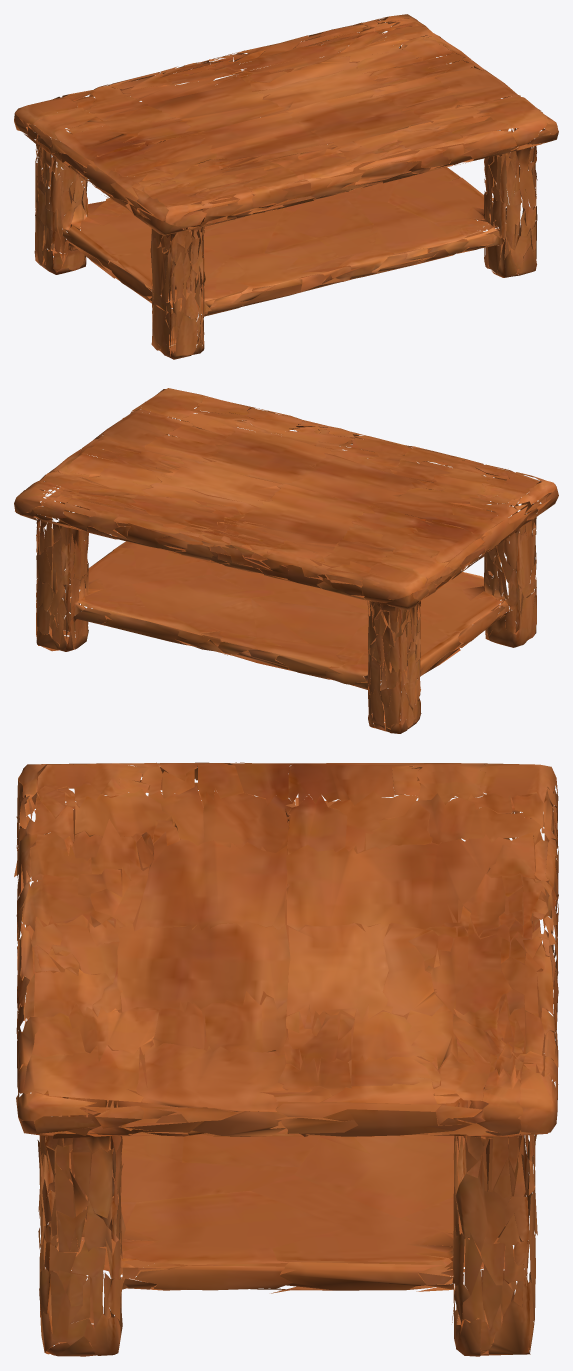
The model's file is coffee_table.glb.
3 views of the same model, one above another, from view 1: azimuth 30°, elevation 25°; view 2: azimuth 150°, elevation 25°; view 3: azimuth 270°, elevation 25° (orthographic). The views are drawn at different scales.
Visible parts, largest first — view 1: coffee_table; view 2: coffee_table; view 3: coffee_table.
Boxes of the visible parts, x1,y1,x2,y2 form: coffee_table: (14,14,558,359); coffee_table: (14,388,558,733); coffee_table: (14,762,558,1356).
Size of the model in its own units: 1.2 by 0.458 by 0.7967.
1 material, 1 textured.
